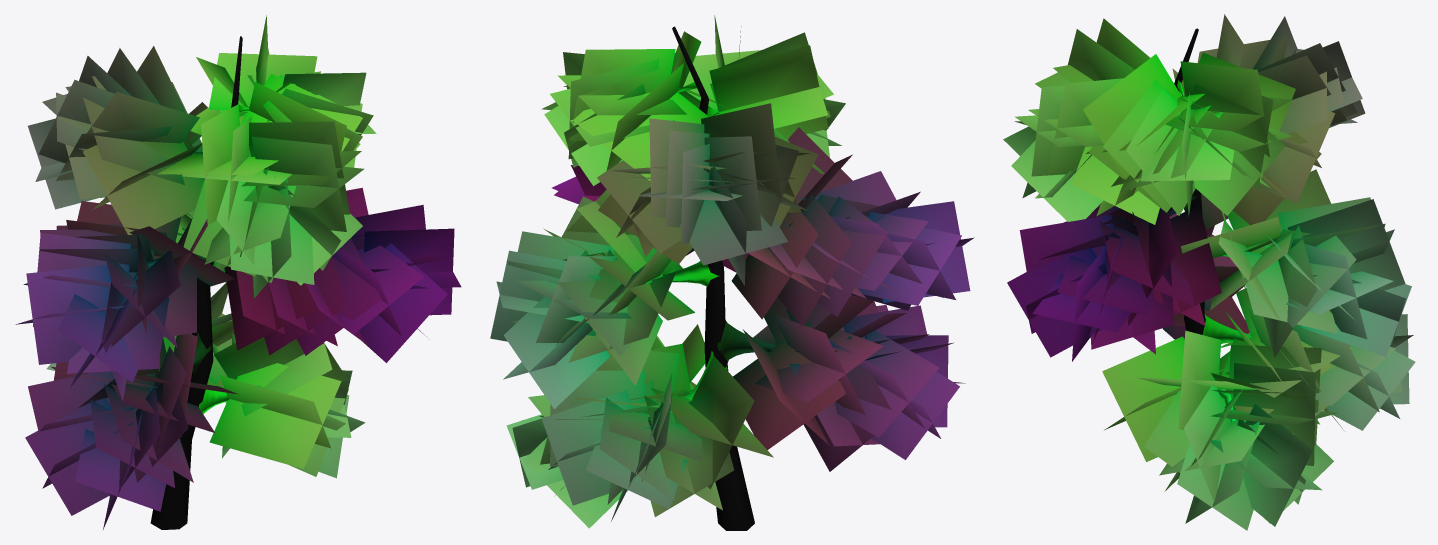
File: URP_P14_Tree_3_LOD_3.fbx
3 renders of one model, left to right at view 1: azimuth 30°, elevation 25°; view 2: azimuth 150°, elevation 25°; view 3: azimuth 270°, elevation 25°, orthographic. The views are drawn at different scales.
Parts seen in each view (by area): view 1: Tree_3_LOD_3; view 2: Tree_3_LOD_3; view 3: Tree_3_LOD_3.
Boxes of the visible parts, x1,y1,x2,y2 form: Tree_3_LOD_3: (15,15,461,529); Tree_3_LOD_3: (490,15,974,530); Tree_3_LOD_3: (1003,14,1415,530).
Size of the model in its own units: 441 by 495 by 405.
